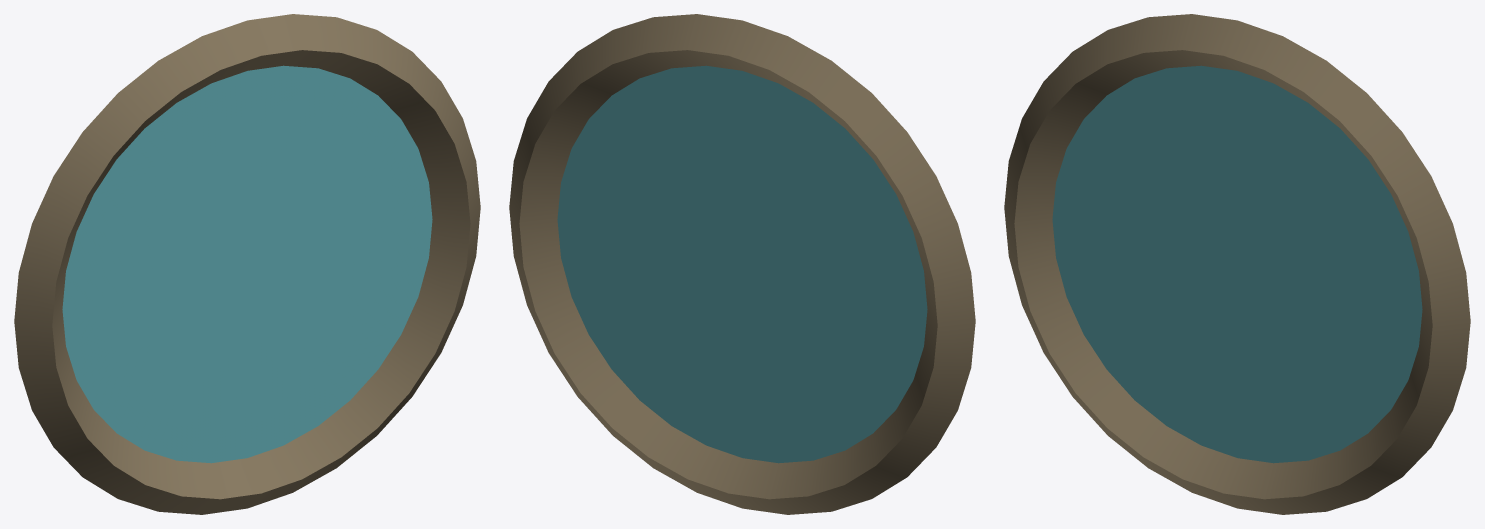
Rendered from Window.fbx.
3 renders of one model, left to right at view 1: azimuth 30°, elevation 25°; view 2: azimuth 150°, elevation 25°; view 3: azimuth 330°, elevation 25°, orthographic.
Parts seen in each view (by area): view 1: window, frame; view 2: window, frame; view 3: window, frame.
Part boxes in pixels (<box>): window: <box>62,65,432,463</box>; frame: <box>14,14,480,514</box>; window: <box>557,65,927,463</box>; frame: <box>509,14,975,514</box>; window: <box>1052,65,1422,463</box>; frame: <box>1004,14,1470,514</box>.
Size of the model in its own units: 2.23 by 2.23 by 0.2305.
